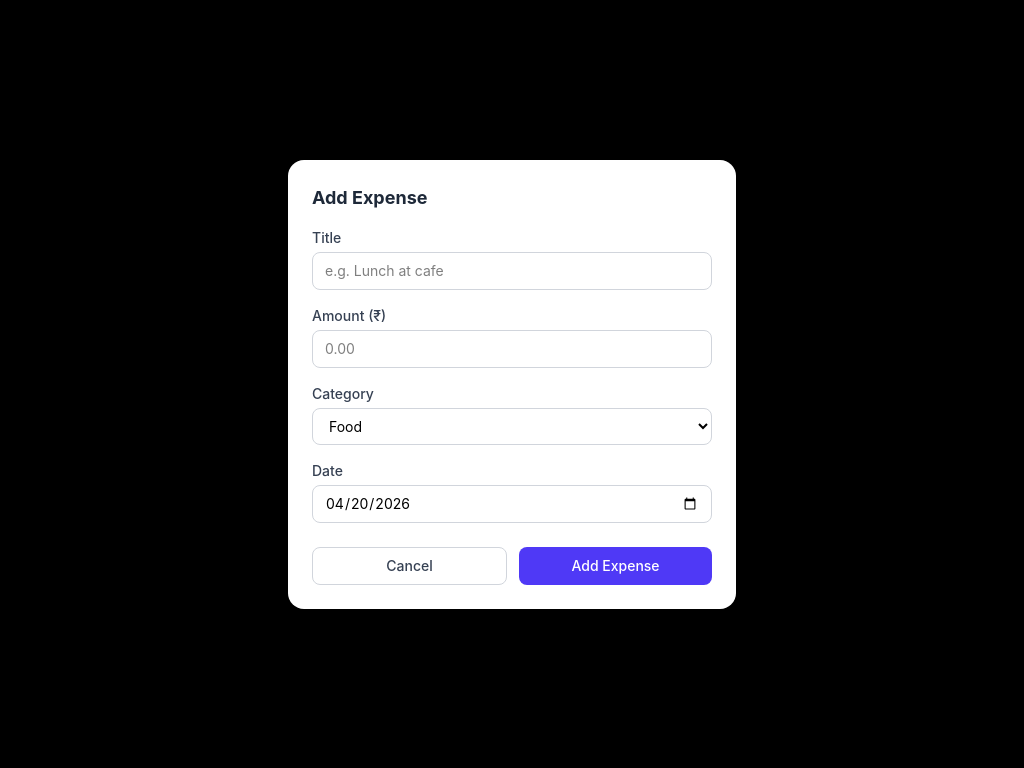
Scenario: ExpenseForm › shows error when amount is negative
Type "Test" into the field with placeholder "e.g. Lunch at cafe" at [512, 270], box [312,252,712,290]
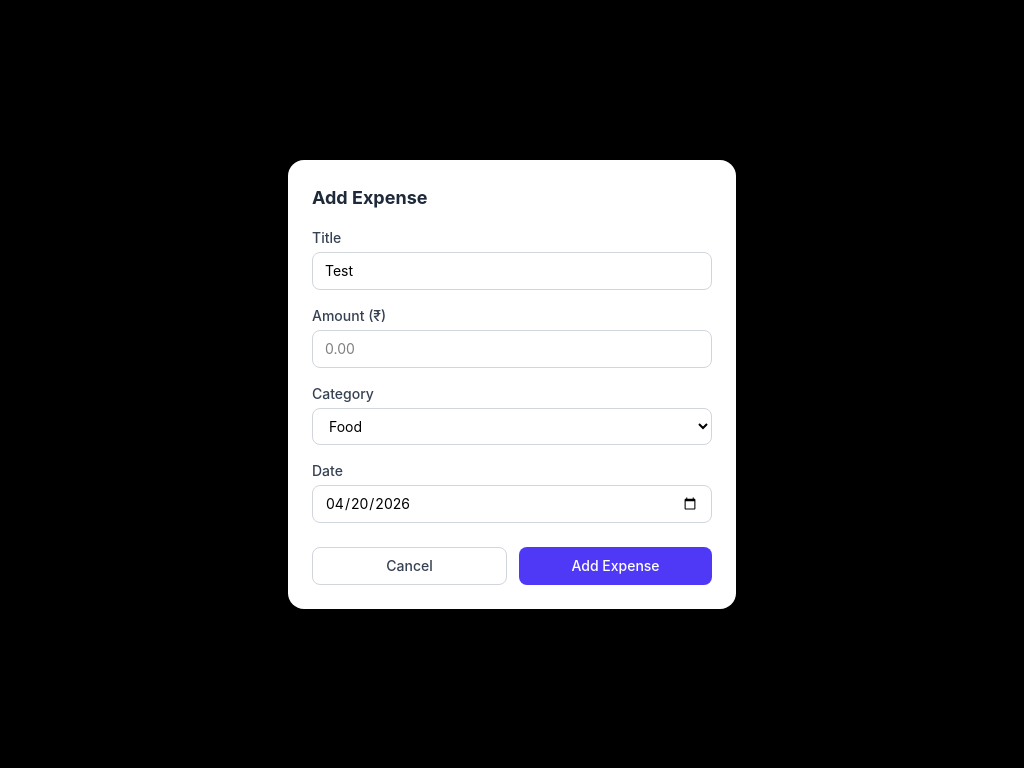
Type "-50" into the number field with placeholder "0.00" at [512, 348], box [312,330,712,368]
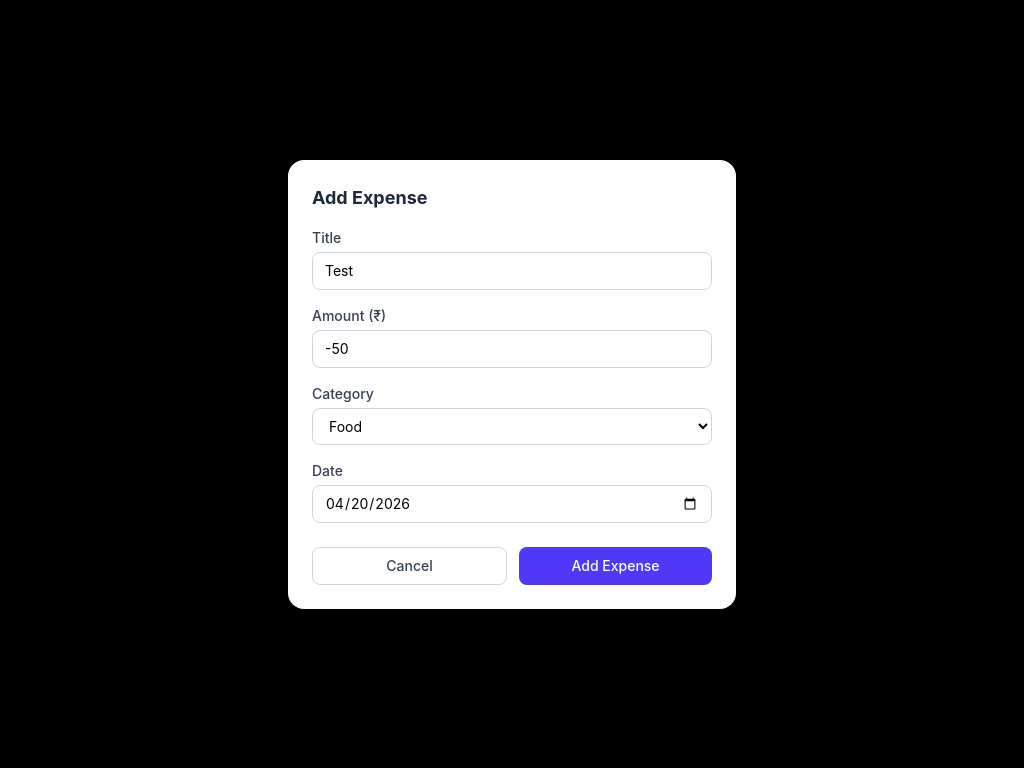
Click the button "Add Expense" at [616, 566], box [519,546,712,584]
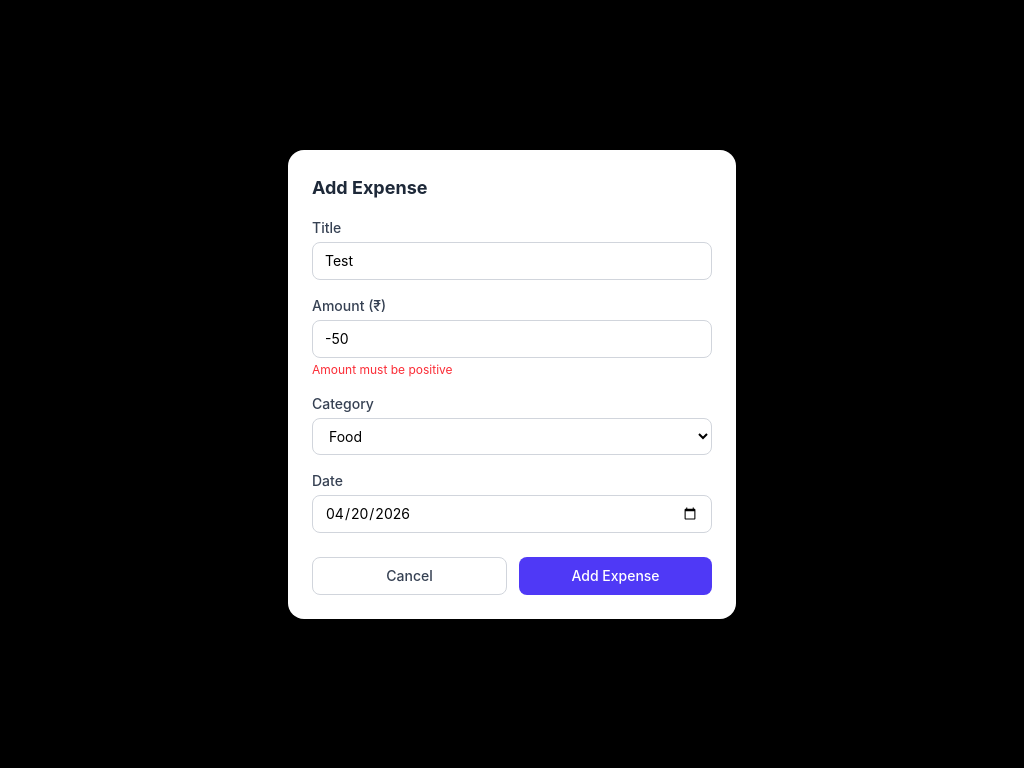
Result: the text "Amount must be positive" is shown at [312,362,453,376]
